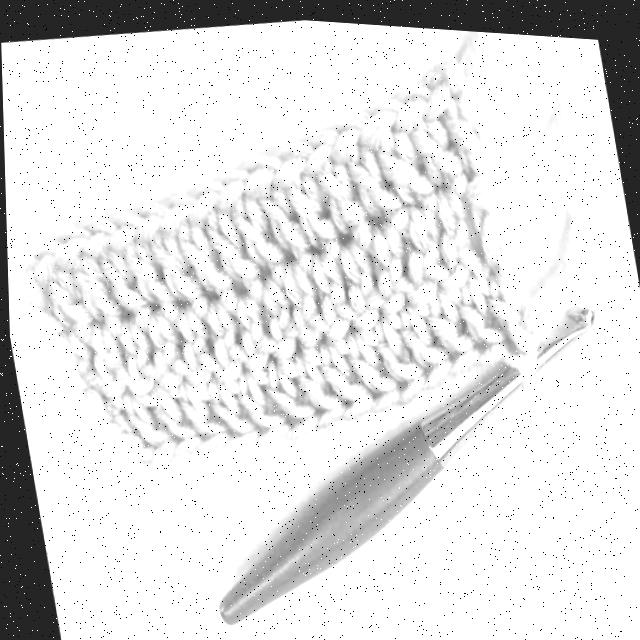ch: (416, 49, 461, 114), (356, 93, 407, 142), (327, 107, 373, 157), (268, 140, 314, 184), (390, 79, 431, 127), (240, 151, 285, 193), (46, 227, 90, 269), (299, 127, 340, 172), (478, 206, 508, 266), (466, 180, 504, 225), (183, 180, 224, 220), (156, 192, 198, 230), (78, 216, 116, 255), (133, 201, 172, 239), (214, 166, 249, 207), (107, 208, 143, 247), (19, 245, 62, 277), (23, 303, 59, 339), (15, 269, 43, 314)
dc: (144, 227, 206, 316), (370, 119, 437, 201), (175, 216, 234, 308), (482, 264, 537, 359), (370, 307, 425, 398), (433, 188, 486, 281), (205, 207, 260, 296), (344, 323, 402, 407), (364, 214, 408, 324), (424, 279, 475, 373), (405, 198, 447, 310), (314, 154, 368, 241), (455, 269, 507, 359), (121, 236, 176, 321), (338, 233, 380, 343), (281, 252, 323, 360), (257, 182, 309, 269), (442, 89, 490, 183), (412, 110, 465, 195), (393, 303, 450, 381), (97, 245, 149, 330), (231, 191, 281, 279), (311, 248, 354, 348), (264, 355, 317, 436), (72, 248, 119, 338), (253, 269, 294, 371), (284, 171, 334, 253), (202, 295, 243, 391), (344, 139, 397, 213), (39, 264, 88, 344), (149, 379, 198, 459), (142, 307, 187, 394), (121, 392, 172, 467), (231, 290, 272, 383), (317, 337, 366, 414), (177, 378, 229, 450), (84, 321, 127, 408), (205, 372, 257, 443), (175, 299, 212, 397), (292, 349, 341, 419), (238, 365, 282, 441), (118, 311, 152, 404)
